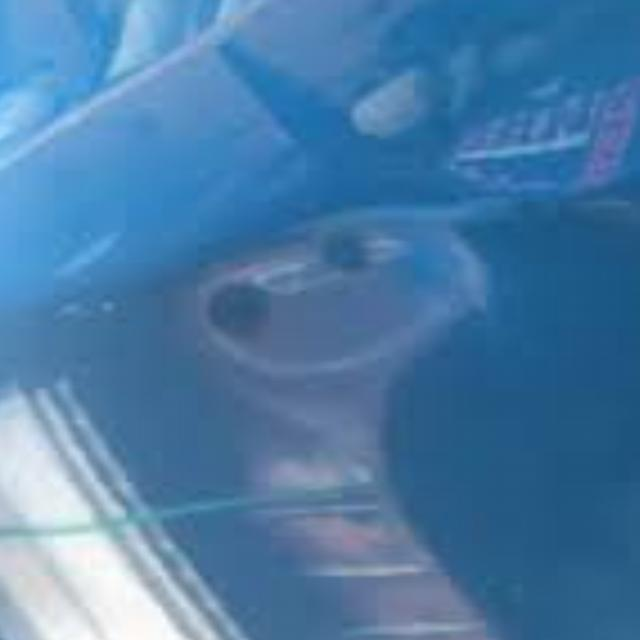dents: (196, 231, 520, 378)
